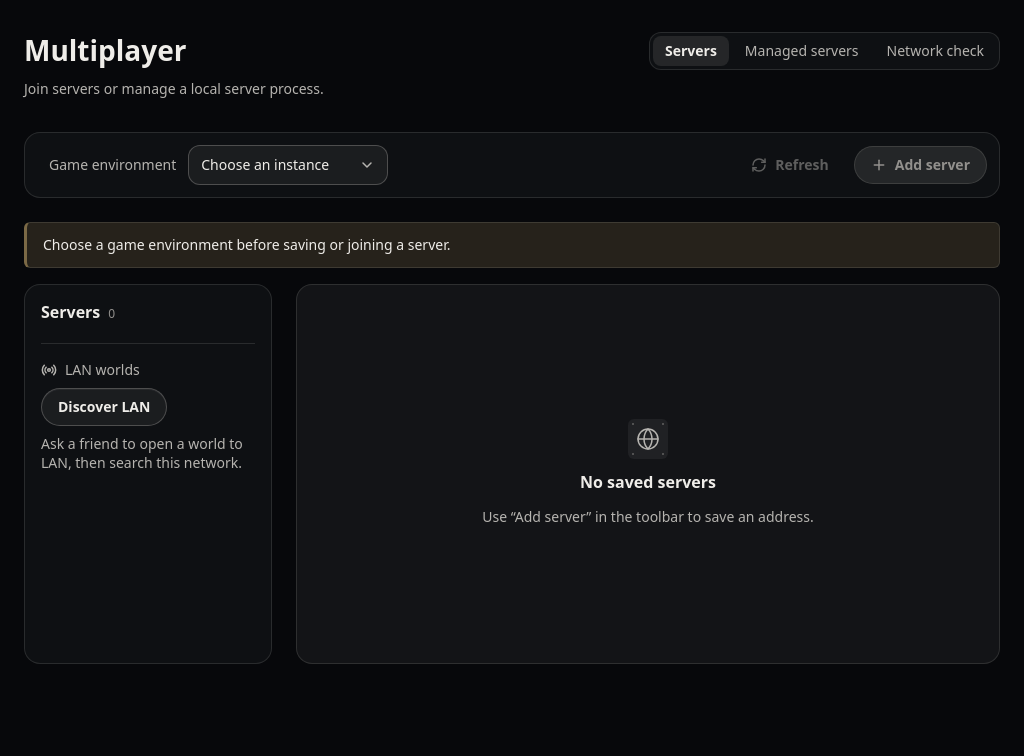
Test: NetworkCheckPanel › shows a tunnel warning and no direct address when a TUN handles the probes
The width and height of the screenshot is (1024, 756).
What coordinates should you click on to do the following:
click the tab "Network check"
I would click on:
 (935, 51)
Its box is left=875, top=36, right=996, bottom=66.
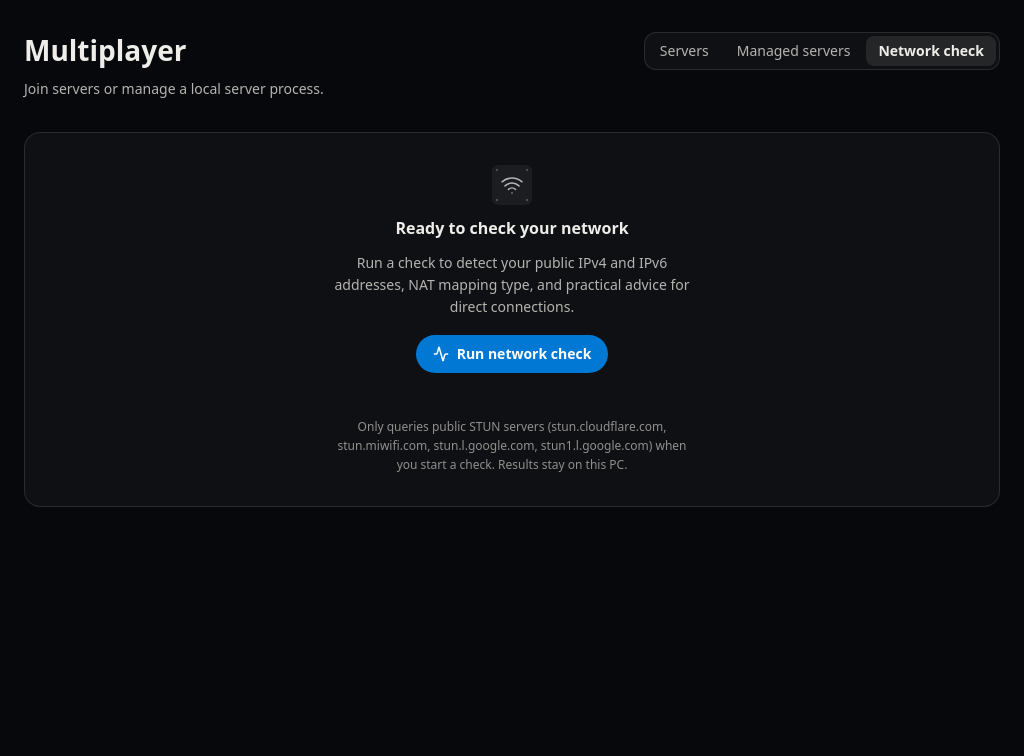
What coordinates should you click on to do the following:
click the button "Run network check"
I would click on:
 (512, 354)
Its box is left=416, top=335, right=608, bottom=373.
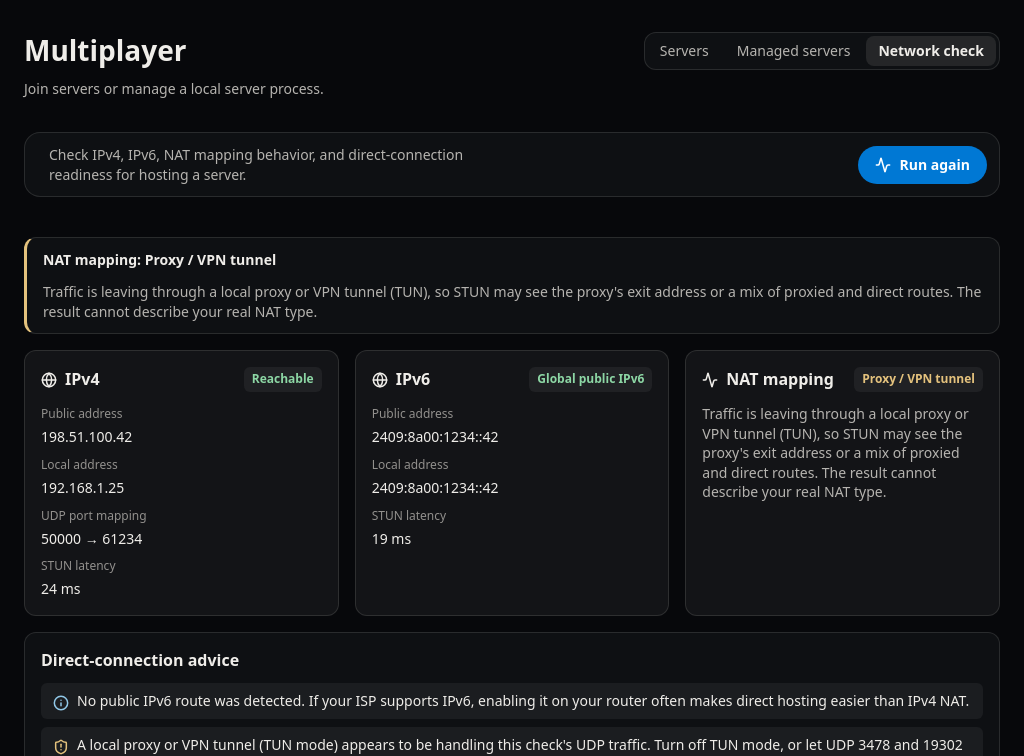
Now the text "Proxy / VPN tunnel" is shown, box left=145, top=250, right=276, bottom=269
